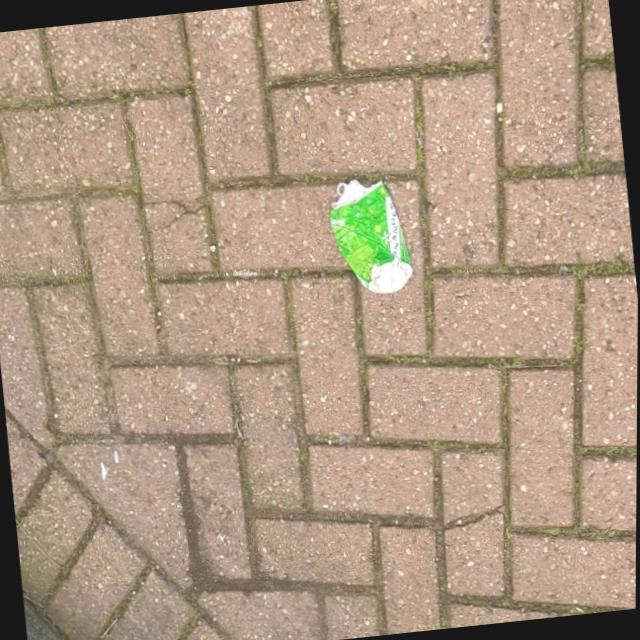Can-Metal: (321, 175, 418, 307)
